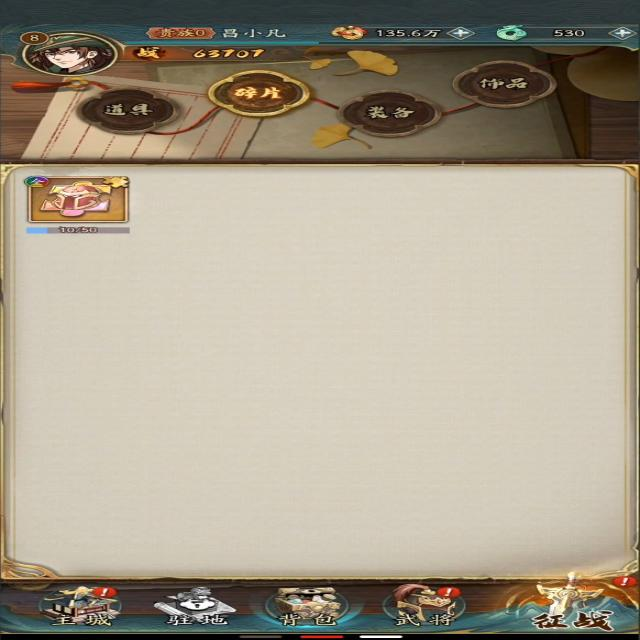hint-reddot: (609, 574, 640, 590), (86, 586, 120, 600), (432, 585, 463, 600)
navigation-bag: (258, 580, 360, 632)
navigation-fight: (507, 570, 640, 635)
navigation-hero: (371, 578, 473, 628)
navigation-main: (29, 579, 136, 632)
navigation-role: (9, 24, 140, 77)
navigation-station-off: (149, 582, 245, 634)
operation-decorate: (438, 58, 568, 108)
operation-equipment: (336, 85, 445, 138)
operation-pieces: (202, 67, 315, 117)
operation-tools: (70, 87, 182, 137)
